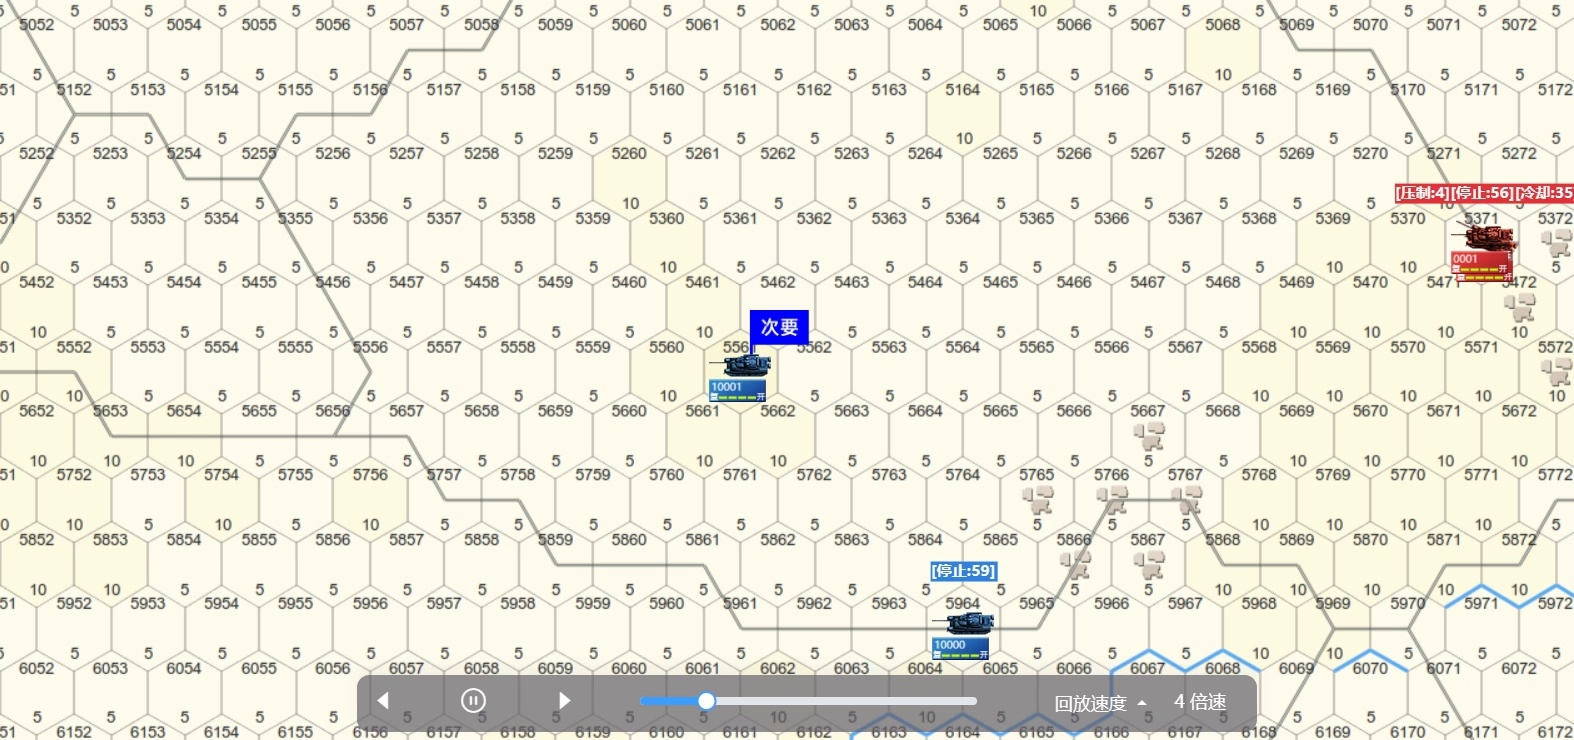blue_tank: (706, 352, 771, 399), (931, 614, 995, 652)
red_tank: (1454, 227, 1517, 276)
